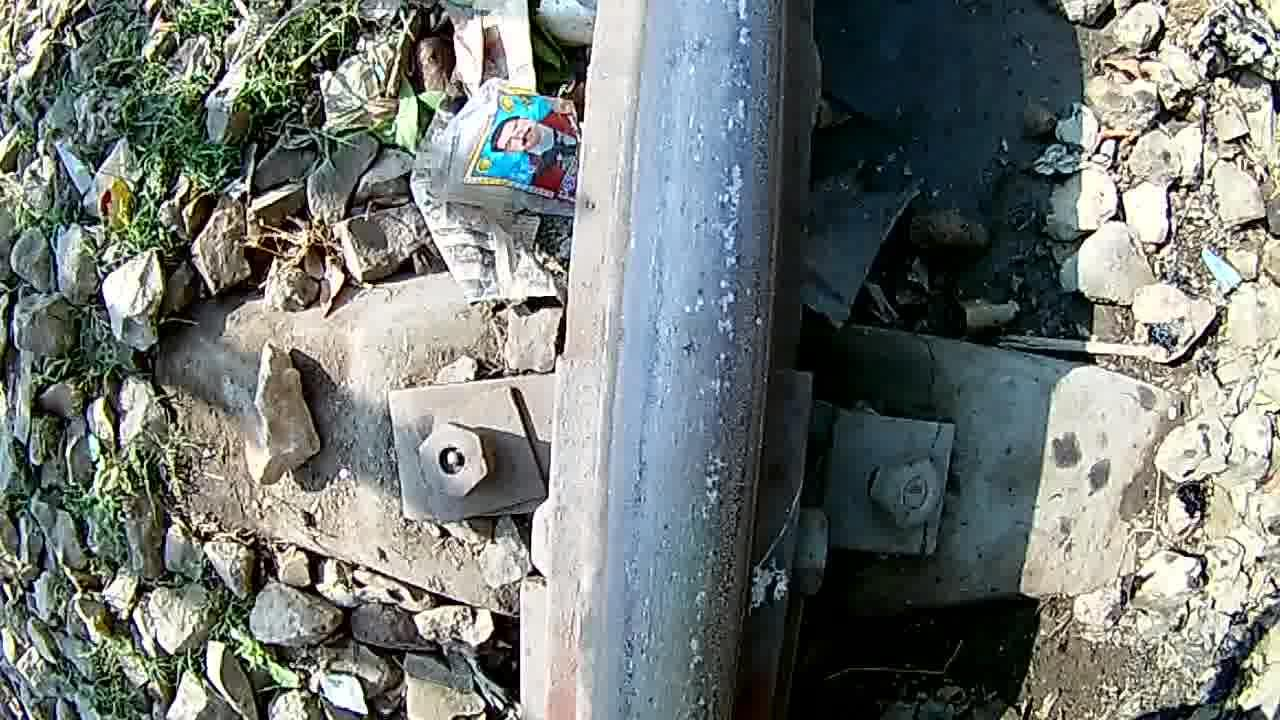clip_missing: (593, 0, 793, 720)
